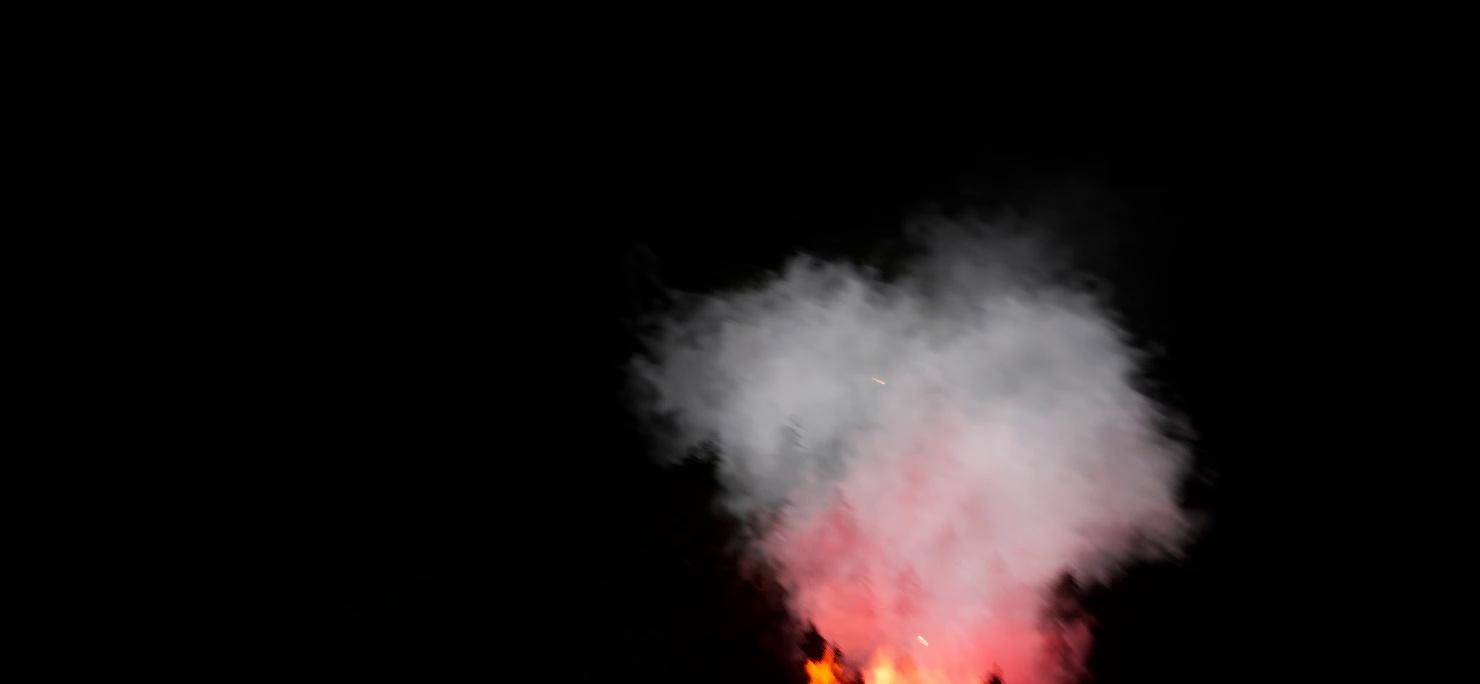fire: (801, 647, 1019, 683)
smoke: (624, 209, 1219, 660)
